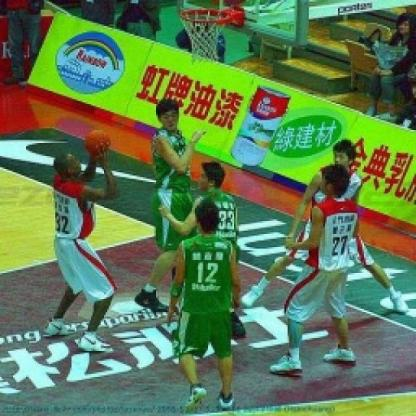basketball: (81, 126, 111, 155)
